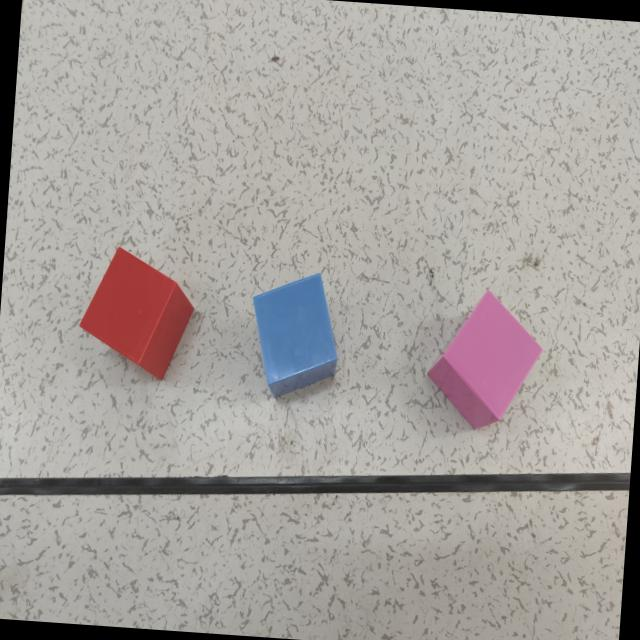blue: (251, 274, 338, 401)
pink: (425, 291, 543, 430)
red: (78, 248, 194, 381)
